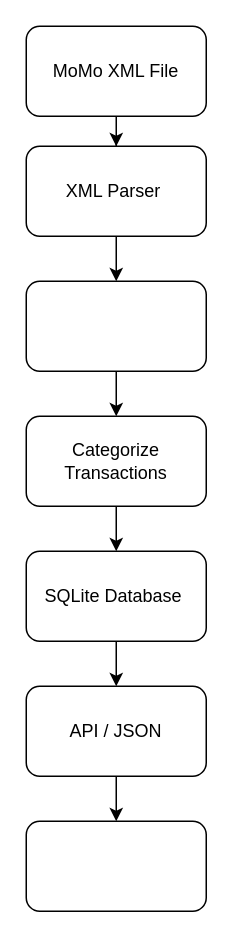
Image size: 233x938. Some labels were removed from this diagram. Here are the shapes that lost their labels. From the top down, the centre of each, then its label:
At [115,325]: "Clean & Normalize Data".
At [115,865]: "Web Dashboard".
